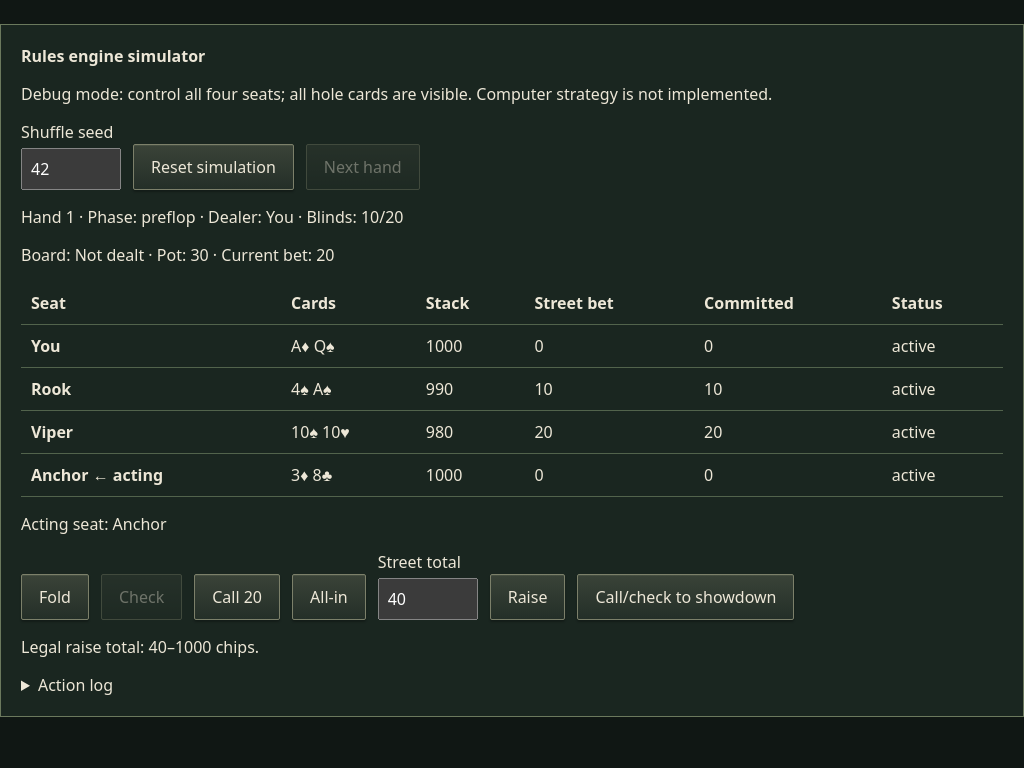
reports illegal raises while preserving the hand, then accepts a legal raise
Replace the text in the number field labelled "Street total" with "39" at (428,599), box [378,578,478,620]
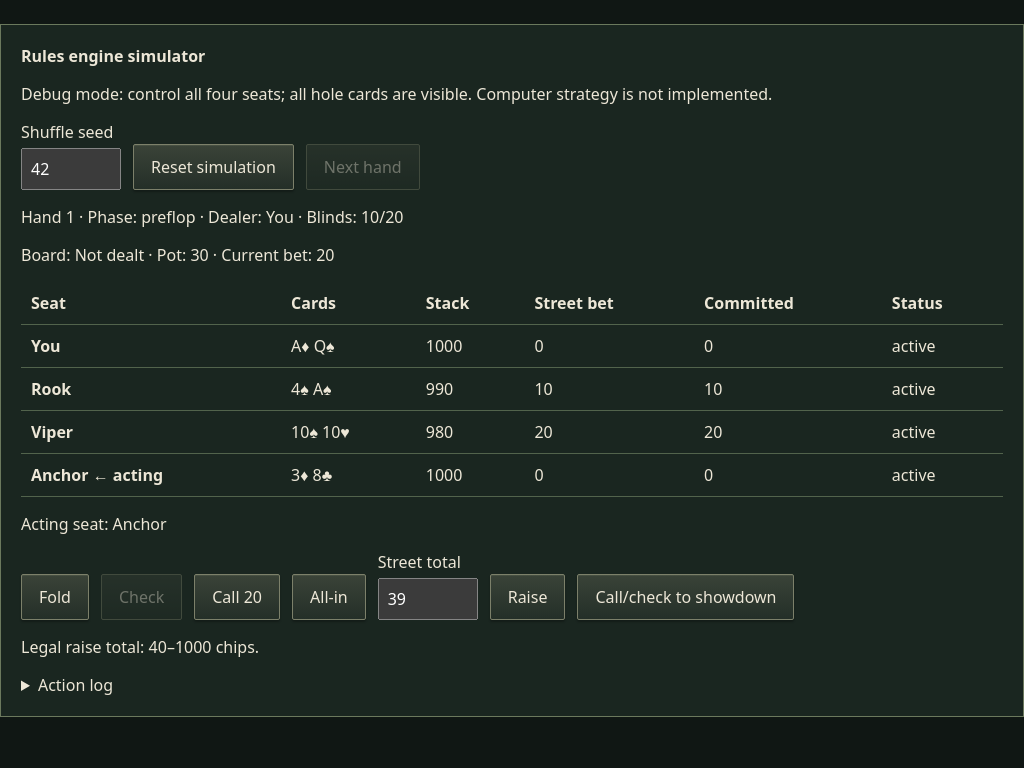
Click the button "Raise" at (528,597), box [490,574,566,620]
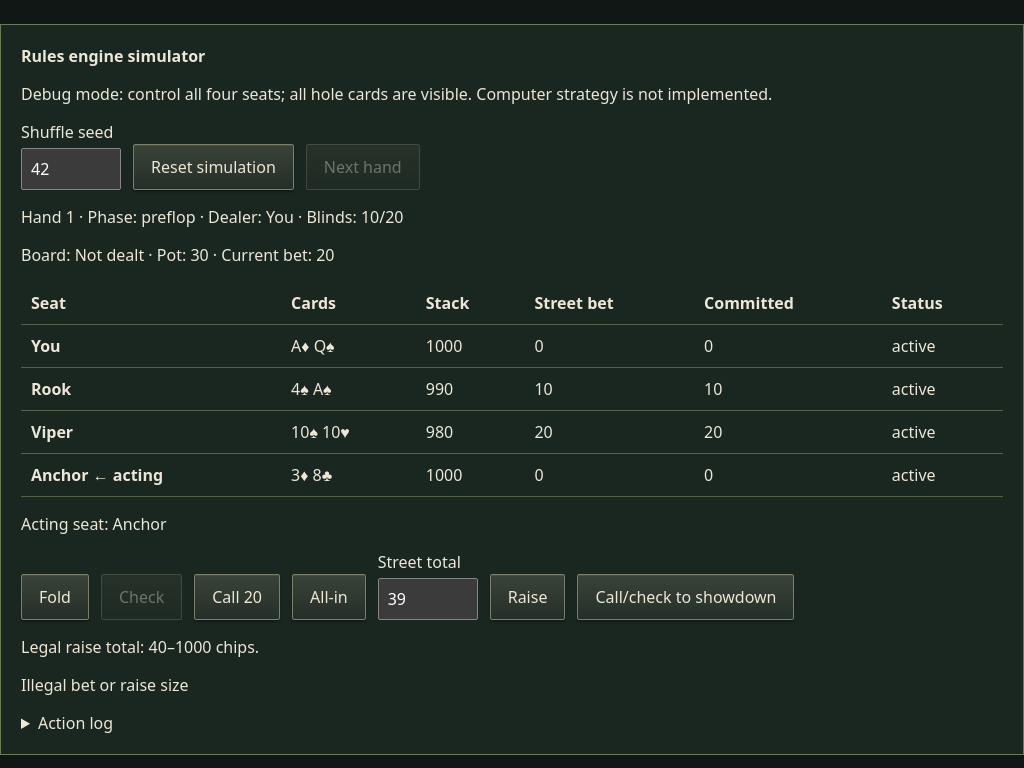
Expected: the text "Acting seat: Anchor" is shown, [21,513,167,535]
Expected: the message "Illegal bet or raise size" is shown, [21,674,189,696]
Replace the text in the number field labelled "Street total" with "40" at (428,599), box [378,578,478,620]
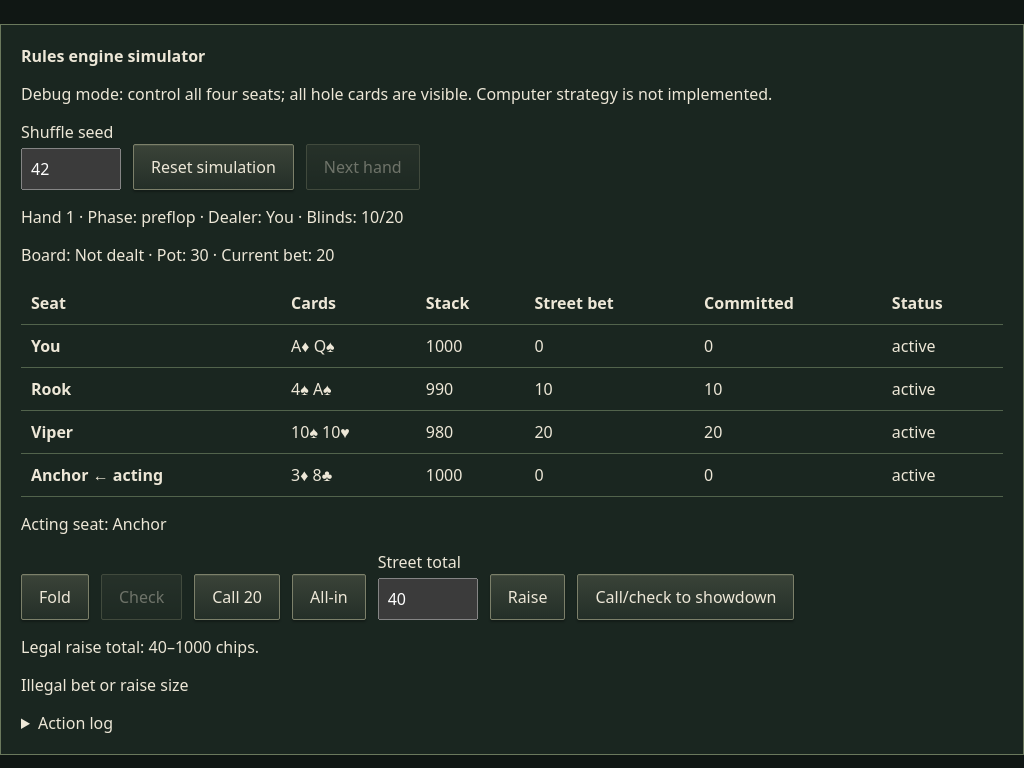
Click the button "Raise" at (528,597), box [490,574,566,620]
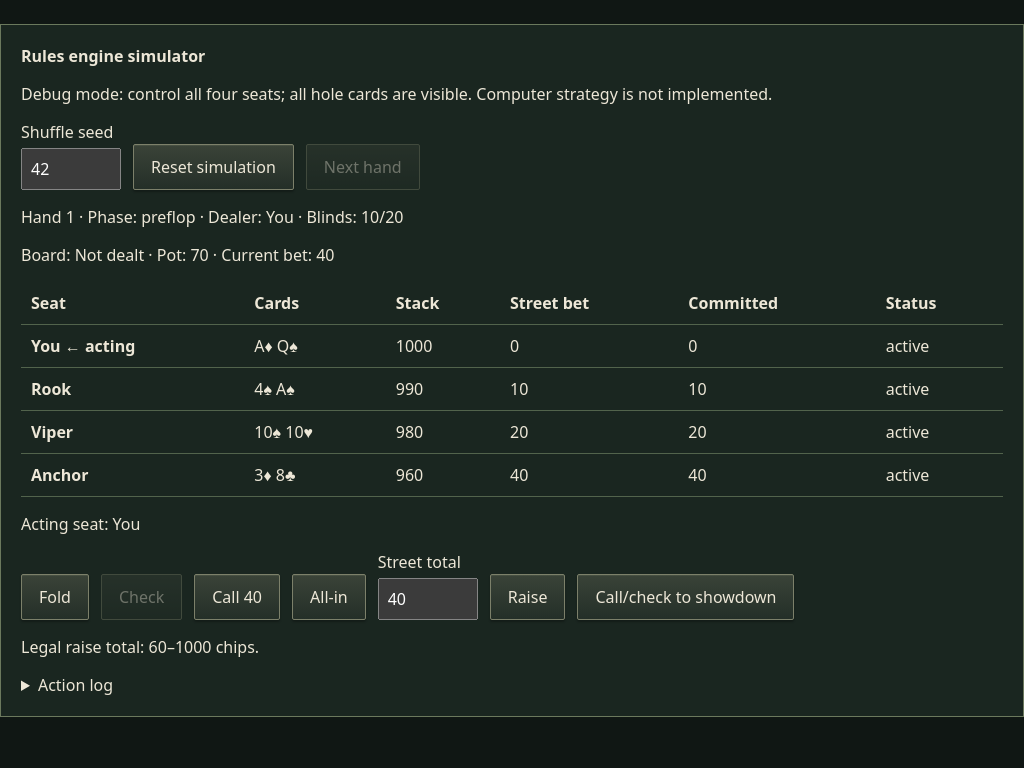
Expected: the message "Illegal bet or raise size" is gone
Expected: the text "Acting seat: You" is shown, [21,513,140,535]
